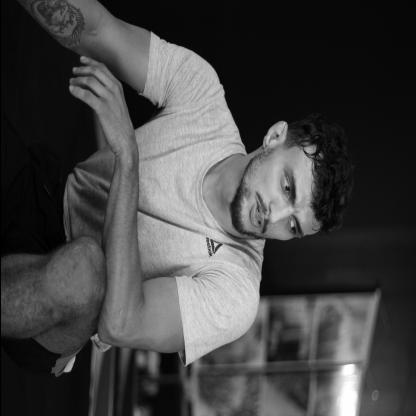Eye: (279, 168, 291, 199), (285, 216, 297, 237)
Mouth: (248, 197, 264, 230)
Nose: (267, 203, 288, 224)
